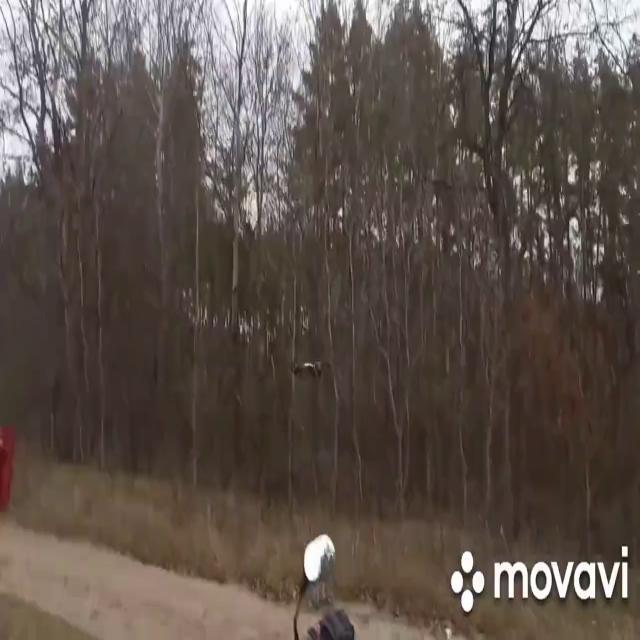Drons: (280, 349, 330, 391)
